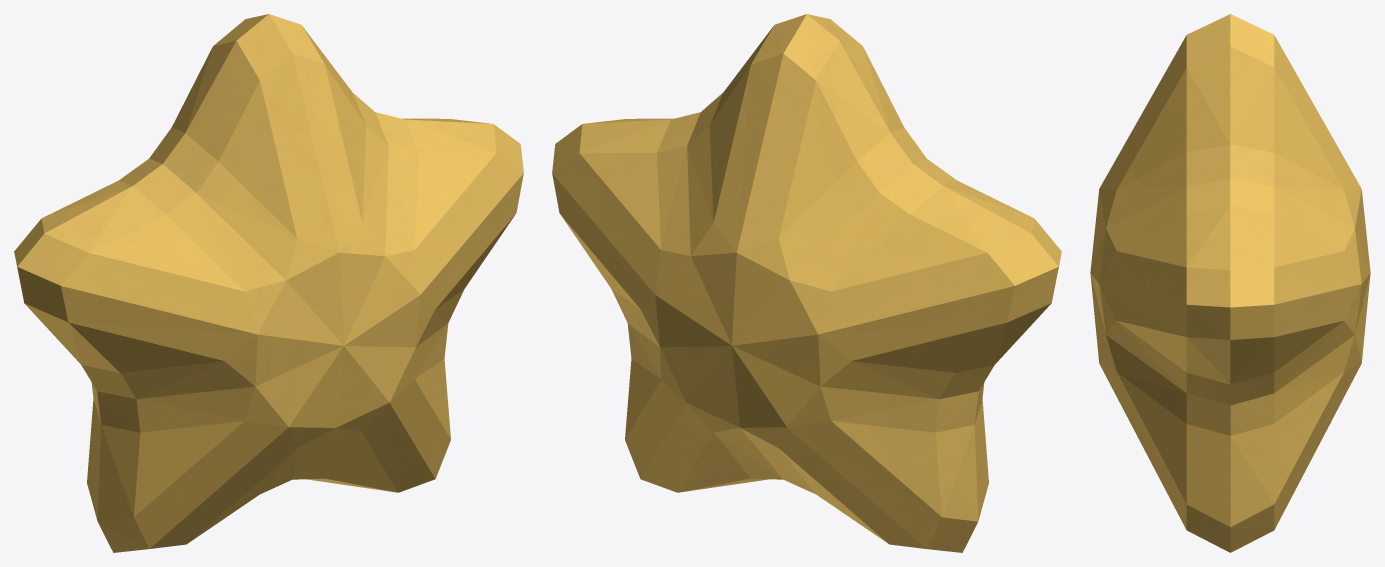
Rendered from DecorationsB.fbx.
3 views of the same model, side by side, from view 1: azimuth 30°, elevation 25°; view 2: azimuth 150°, elevation 25°; view 3: azimuth 270°, elevation 25° (orthographic). The views are drawn at different scales.
Visible parts, largest first — view 1: SM_VA_DecorationsB.mo; view 2: SM_VA_DecorationsB.mo; view 3: SM_VA_DecorationsB.mo.
Part boxes in pixels (bbox=[...]): SM_VA_DecorationsB.mo: bbox=[14, 14, 523, 552]; SM_VA_DecorationsB.mo: bbox=[552, 14, 1061, 552]; SM_VA_DecorationsB.mo: bbox=[1090, 14, 1370, 552].
Bounding box in the file's own units: 3.08 × 2.96 × 1.59.
